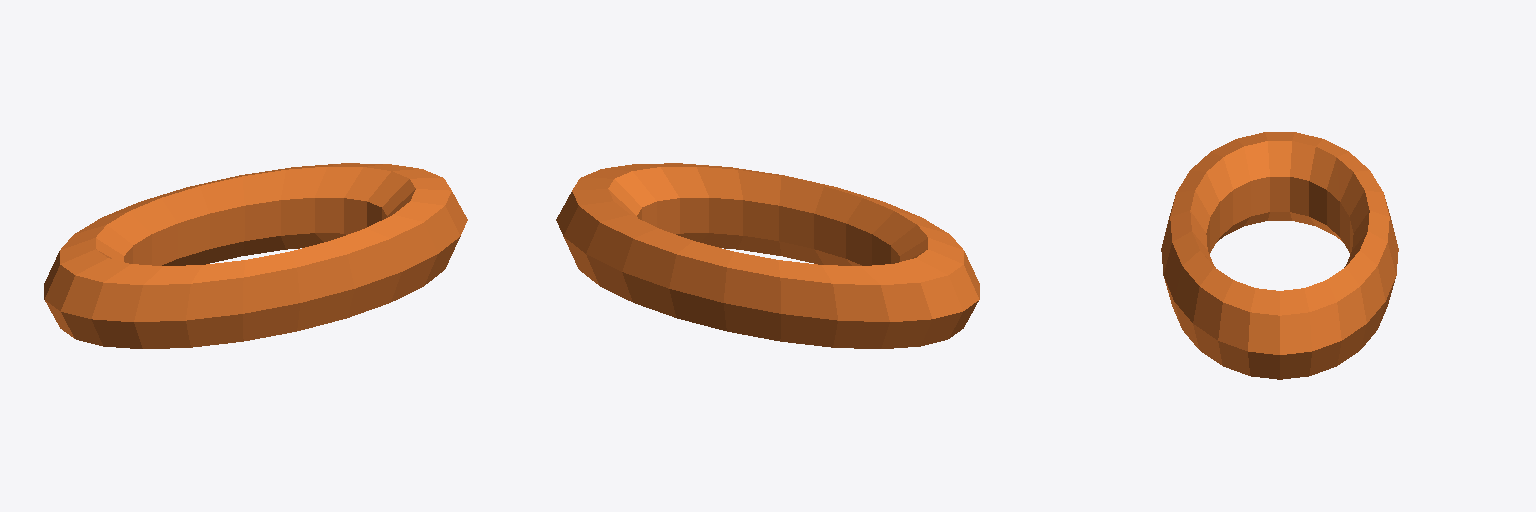
Rendered from ChainLink.obj.
3 renders of one model, left to right at view 1: azimuth 30°, elevation 25°; view 2: azimuth 150°, elevation 25°; view 3: azimuth 270°, elevation 25°, orthographic.
Visible parts, largest first — view 1: Torus; view 2: Torus; view 3: Torus.
Boxes of the visible parts, x1=… form: Torus: x1=44, y1=163, x2=467, y2=348; Torus: x1=556, y1=163, x2=979, y2=348; Torus: x1=1161, y1=132, x2=1398, y2=379.
Size of the model in its own units: 1.99 by 0.3733 by 1.01.